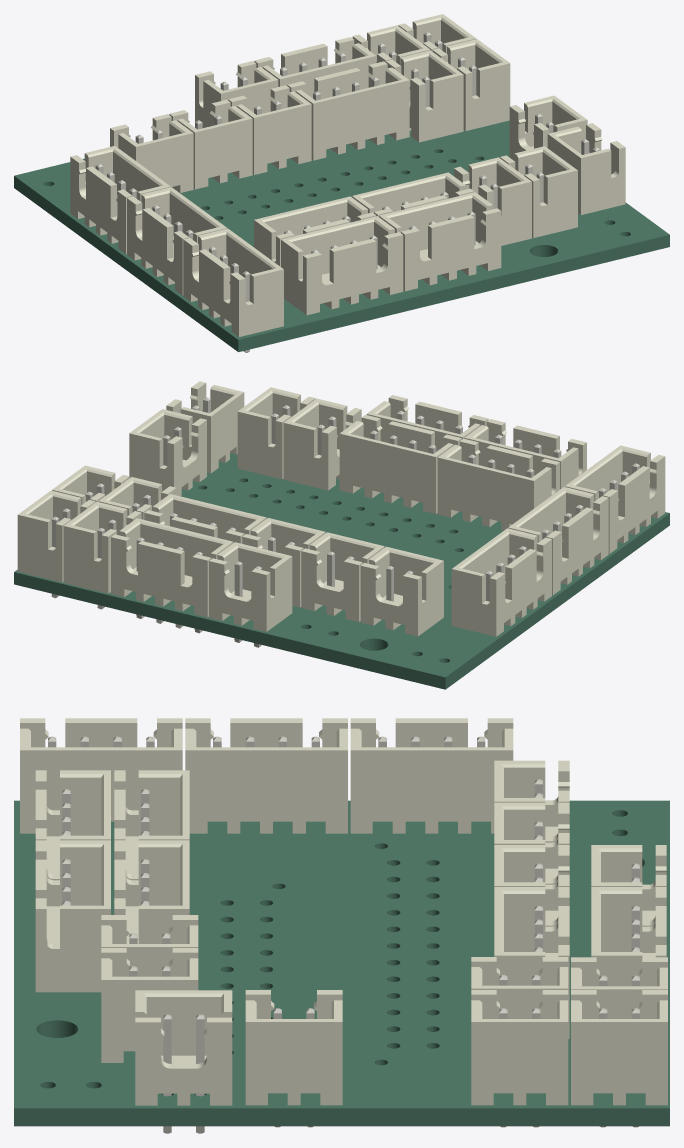
Rendered from breakout.glb.
3 renders of one model, top to bottom at view 1: azimuth 30°, elevation 25°; view 2: azimuth 150°, elevation 25°; view 3: azimuth 270°, elevation 25°, orthographic. The views are drawn at different scales.
Parts seen in each view (by area): view 1: =>[0:1:1:4], YML1, ZM0, YMR1, XM0, EM1, ZM1, AUXF, YTH1, XTH1, XEND1, FANPWM1 (+10 smaller); view 2: =>[0:1:1:4], EM1, XM1, YML0, YMR0, XTH0, HEF1, ZM0, ZM1, YEND1, ZEND0, XEND1 (+10 smaller); view 3: =>[0:1:1:4], ZM1, EM1, YTH1, YMR1, ZM0, FANPWM1, YEND1, AUXF1, YMR0, XM0, XM1 (+10 smaller).
Boxes of the visible parts, left/top/right/bottom form: =>[0:1:1:4]: left=14, top=120, right=669, bottom=352; YML1: left=281, top=216, right=403, bottom=315; ZM0: left=183, top=228, right=283, bottom=352; YMR1: left=379, top=192, right=501, bottom=291; XM0: left=287, top=61, right=409, bottom=160; EM1: left=70, top=146, right=170, bottom=254; ZM1: left=127, top=187, right=227, bottom=295; AUXF: left=386, top=50, right=463, bottom=142; YTH1: left=547, top=123, right=625, bottom=214; XTH1: left=228, top=85, right=311, bottom=174; XEND1: left=169, top=99, right=252, bottom=189; FANPWM1: left=432, top=39, right=510, bottom=130; =>[0:1:1:4]: left=14, top=453, right=669, bottom=689; EM1: left=451, top=528, right=551, bottom=636; XM1: left=111, top=518, right=233, bottom=633; YML0: left=437, top=438, right=559, bottom=530; YMR0: left=339, top=414, right=461, bottom=513; XTH0: left=209, top=542, right=292, bottom=647; HEF1: left=360, top=546, right=443, bottom=636; ZM0: left=565, top=445, right=665, bottom=553; ZM1: left=508, top=487, right=608, bottom=595; YEND1: left=129, top=409, right=206, bottom=496; ZEND0: left=283, top=398, right=361, bottom=490; XEND1: left=301, top=532, right=384, bottom=621; =>[0:1:1:4]: left=14, top=800, right=669, bottom=1126; ZM1: left=185, top=718, right=347, bottom=833; EM1: left=350, top=718, right=513, bottom=833; YTH1: left=135, top=990, right=232, bottom=1133; YMR1: left=35, top=840, right=110, bottom=992; ZM0: left=20, top=718, right=182, bottom=833; FANPWM1: left=471, top=990, right=568, bottom=1127; YEND1: left=245, top=990, right=342, bottom=1127; AUXF1: left=571, top=990, right=667, bottom=1127; YMR0: left=114, top=840, right=189, bottom=943; XM0: left=494, top=887, right=569, bottom=1038; XM1: left=591, top=887, right=666, bottom=986.
Size of the model in its own units: 0.0555 by 0.0104 by 0.05.
